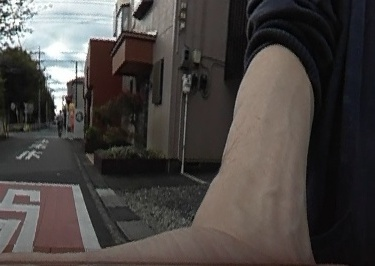person: (55, 109, 65, 137)
